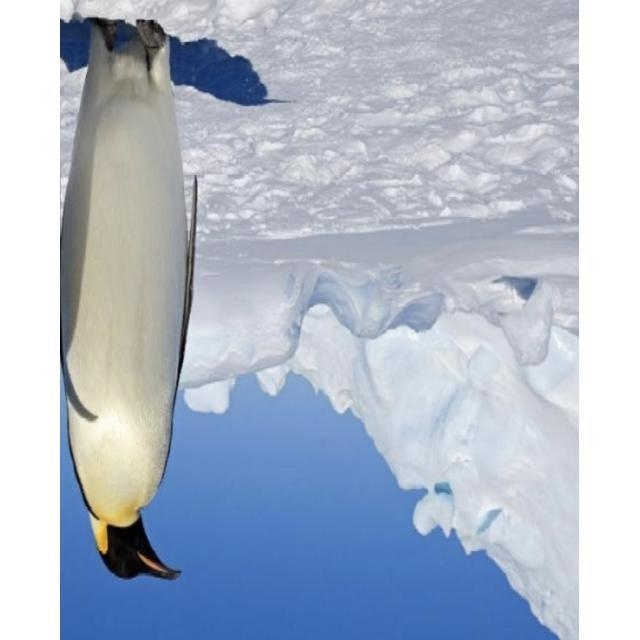penguin: (61, 17, 199, 580)
